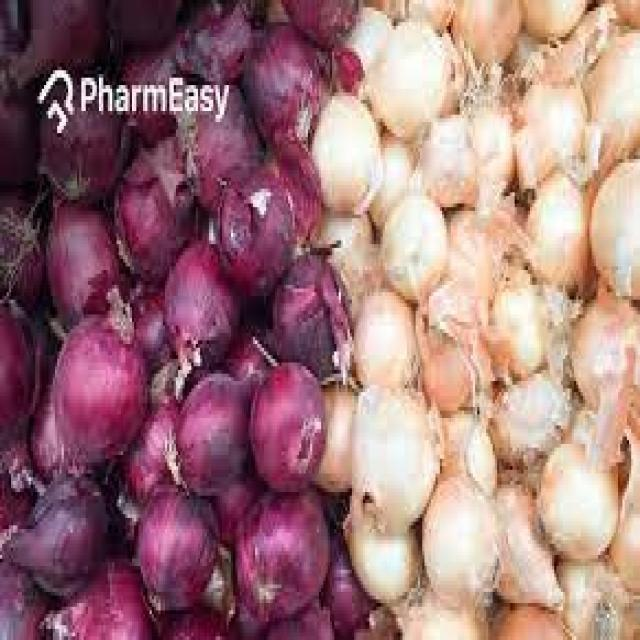onion: (38, 310, 170, 452), (226, 463, 328, 630), (347, 380, 435, 536), (414, 472, 508, 610), (38, 178, 124, 326), (132, 476, 218, 622), (12, 458, 104, 594), (159, 388, 267, 500), (240, 354, 328, 489), (535, 428, 617, 569), (148, 236, 234, 368), (109, 146, 187, 287), (299, 88, 378, 218), (234, 44, 322, 156), (370, 185, 450, 308), (522, 168, 601, 292), (213, 184, 290, 307), (364, 21, 448, 130)
